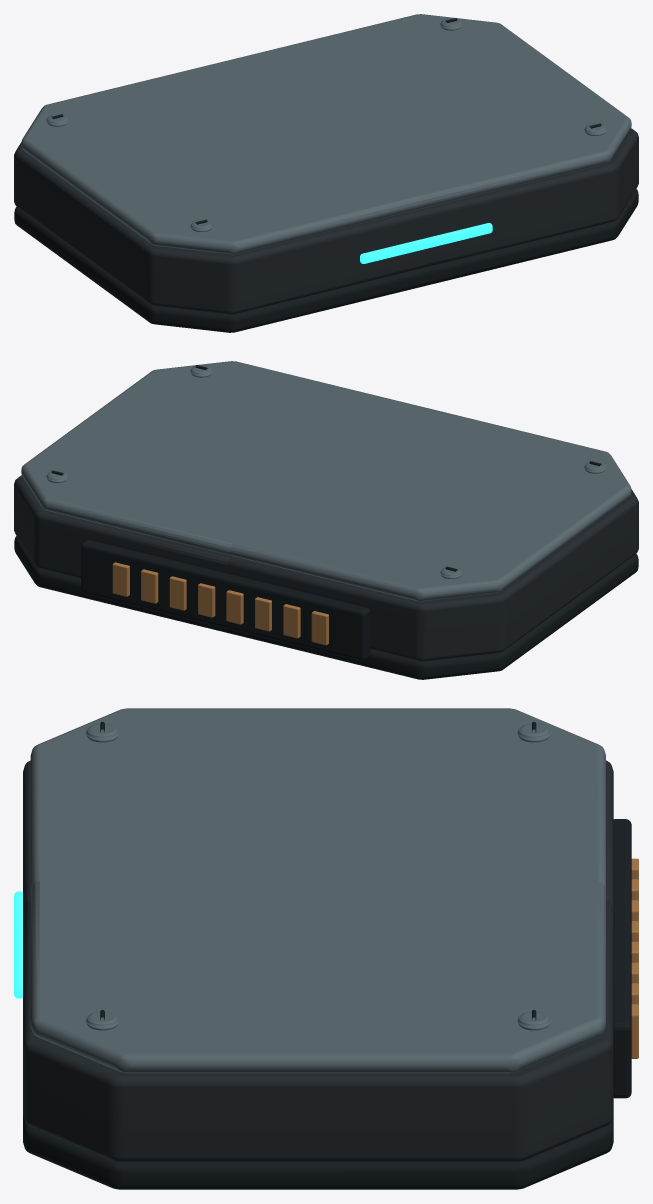
Rendered from standard_battery_pack.glb.
3 views of the same model, one above another, from view 1: azimuth 30°, elevation 25°; view 2: azimuth 150°, elevation 25°; view 3: azimuth 270°, elevation 25° (orthographic). The views are drawn at different scales.
Visible parts, largest first — view 1: BatteryLid, BatteryLayer, BatteryIsolation, BatteryChargeGauge; view 2: BatteryLid, BatteryLayer, ConnectorRecess, BatteryIsolation, GoldContact.006, GoldContact.004, GoldContact.007, GoldContact.005; view 3: BatteryLid, BatteryLayer, BatteryIsolation, ConnectorRecess, CaptiveFastener.002, CaptiveFastener.003, BatteryChargeGauge.
Boxes of the visible parts, x1,y1,x2,y2 form: BatteryLid: [21, 14, 631, 254]; BatteryLayer: [14, 128, 638, 314]; BatteryIsolation: [14, 189, 638, 332]; BatteryChargeGauge: [360, 223, 492, 263]; BatteryLid: [21, 361, 631, 601]; BatteryLayer: [14, 475, 638, 661]; ConnectorRecess: [81, 540, 370, 660]; BatteryIsolation: [14, 536, 638, 679]; GoldContact.006: [141, 569, 300, 638]; GoldContact.004: [198, 583, 243, 624]; GoldContact.007: [112, 562, 328, 645]; GoldContact.005: [169, 576, 271, 631]; BatteryLid: [30, 708, 605, 1073]; BatteryLayer: [23, 760, 613, 1161]; BatteryIsolation: [23, 1115, 613, 1189]; ConnectorRecess: [613, 819, 631, 1098]; CaptiveFastener.002: [86, 723, 118, 1030]; CaptiveFastener.003: [517, 723, 550, 1030]; BatteryChargeGauge: [14, 891, 22, 998].
Size of the model in its own units: 1.12 by 0.21 by 0.8255.
